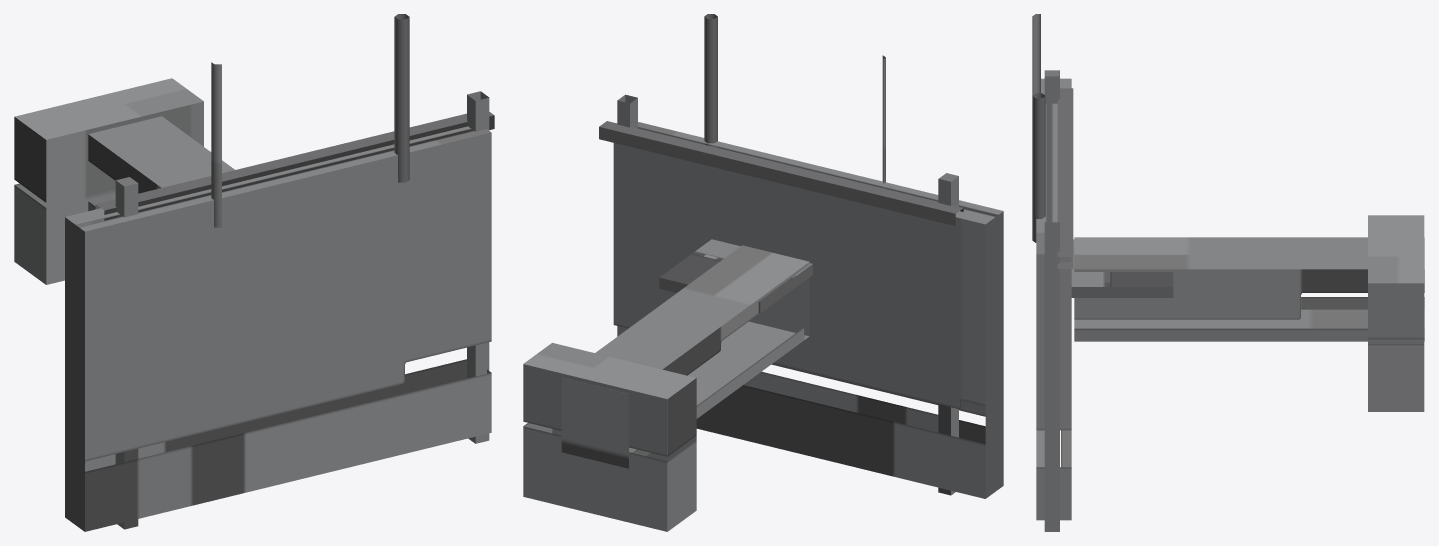
3 renders of one model, left to right at view 1: azimuth 30°, elevation 25°; view 2: azimuth 150°, elevation 25°; view 3: azimuth 270°, elevation 25°, orthographic. The views are drawn at different scales.
Bounding box in the file's own units: 0.973 × 0.988 × 0.885.
